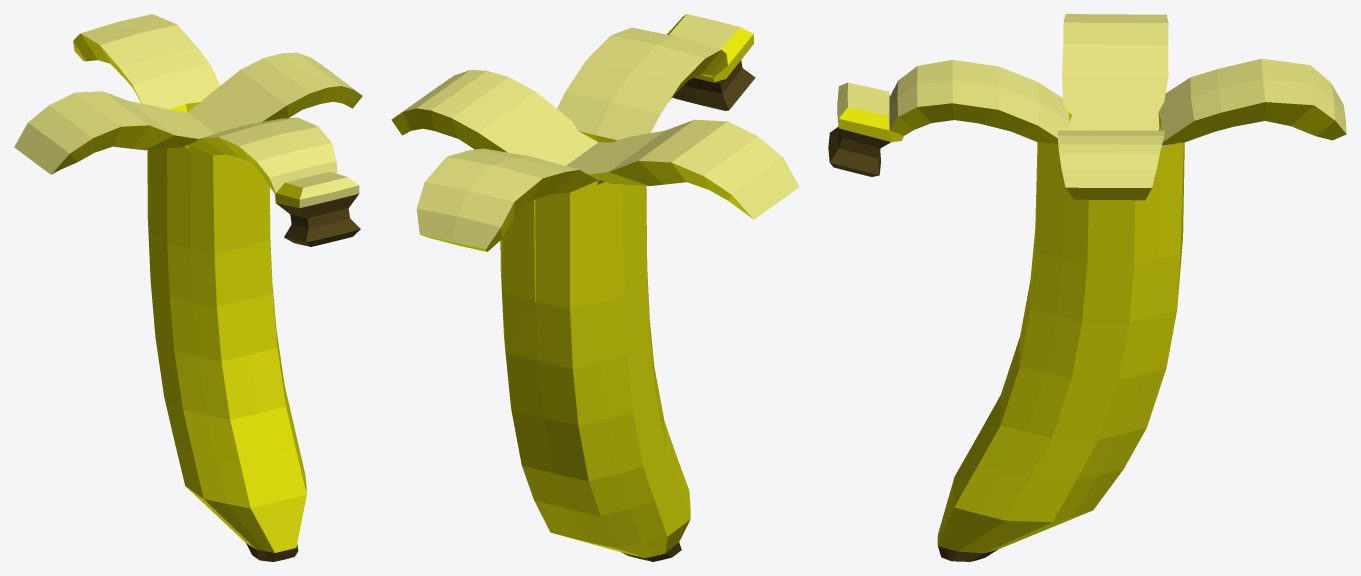
The model's file is Banana_Grip_Ver2.fbx.
3 views of the same model, side by side, from view 1: azimuth 30°, elevation 25°; view 2: azimuth 150°, elevation 25°; view 3: azimuth 270°, elevation 25° (orthographic). The views are drawn at different scales.
Parts seen in each view (by area): view 1: Cube; view 2: Cube; view 3: Cube.
Part boxes in pixels (bbox=[...]): Cube: bbox=[14, 14, 362, 561]; Cube: bbox=[391, 14, 799, 561]; Cube: bbox=[828, 14, 1346, 561].
Bounding box in the file's own units: 85.55 × 112 × 111.
